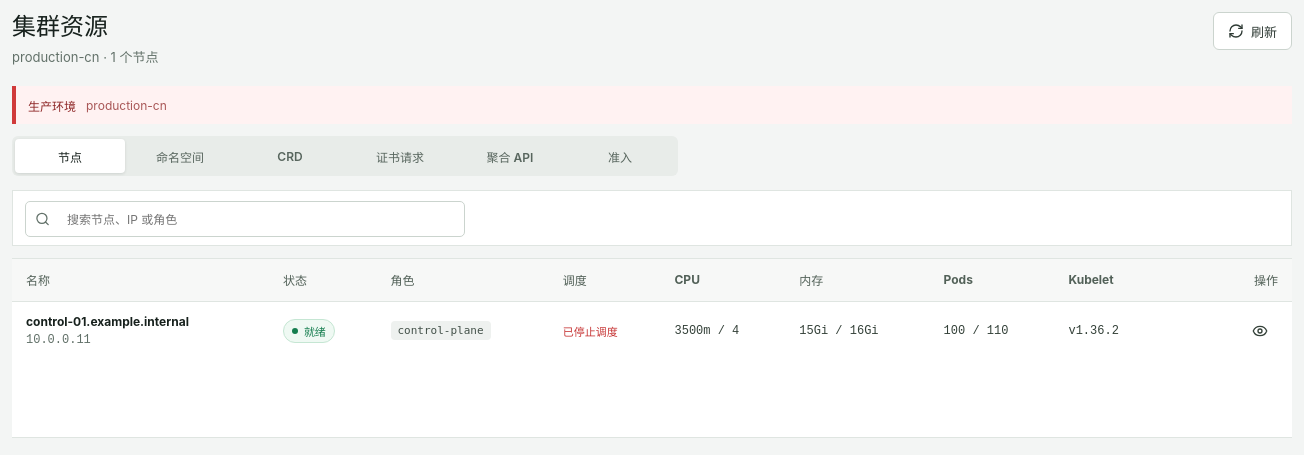
it: ClusterResourcesPage › loads aggregated API health only when selected
Expected: the text "control-01.example.internal" is shown, x1=26 y1=314 x2=189 y2=329
Click the button "聚合 API" at (510, 156), box x1=455 y1=139 x2=565 y2=173
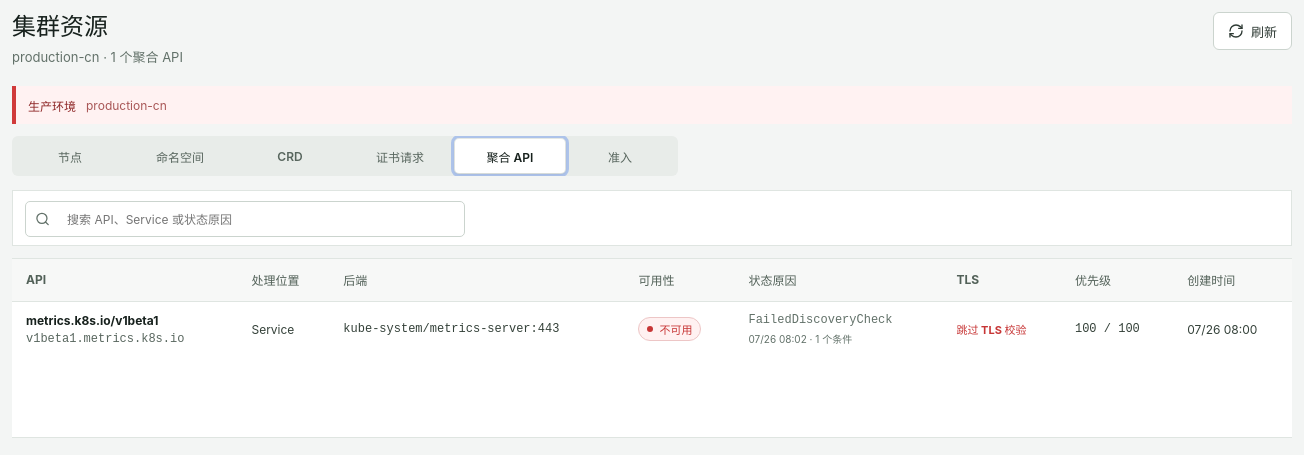
Now the text "metrics.k8s.io/v1beta1" is shown, box x1=26 y1=312 x2=158 y2=328
Now the text "kube-system/metrics-server:443" is shown, box x1=329 y1=301 x2=624 y2=356
Now the text "不可用" is shown, box x1=638 y1=317 x2=701 y2=341
